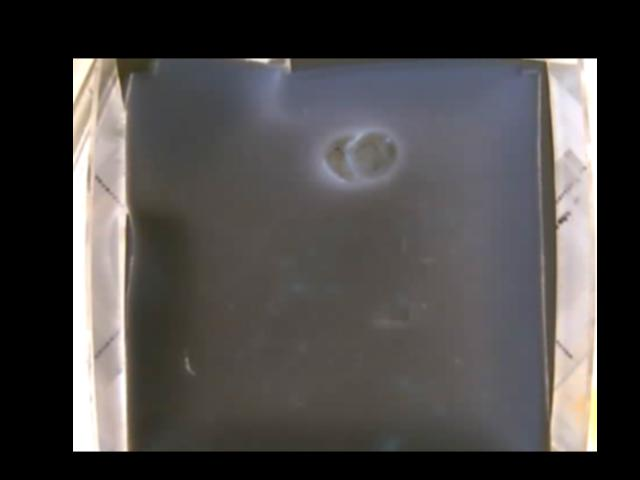Pebble: (325, 126, 395, 181)
